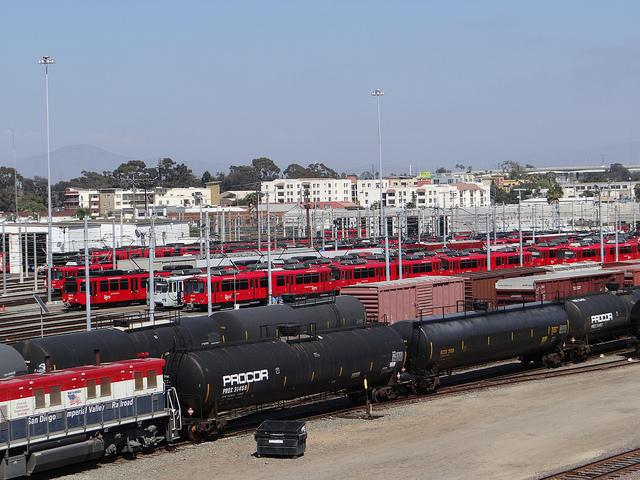Train: (2, 288, 640, 474), (183, 240, 640, 313), (0, 300, 372, 375), (336, 262, 603, 326), (78, 245, 288, 265), (63, 274, 151, 306), (45, 263, 119, 293), (147, 273, 208, 309)
